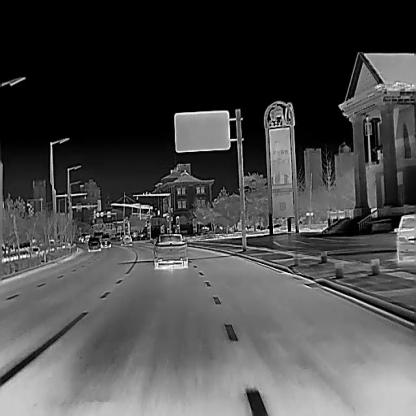car: (151, 233, 188, 266), (392, 213, 416, 261), (87, 237, 100, 251), (100, 233, 110, 248), (119, 234, 132, 245), (84, 234, 90, 243)
